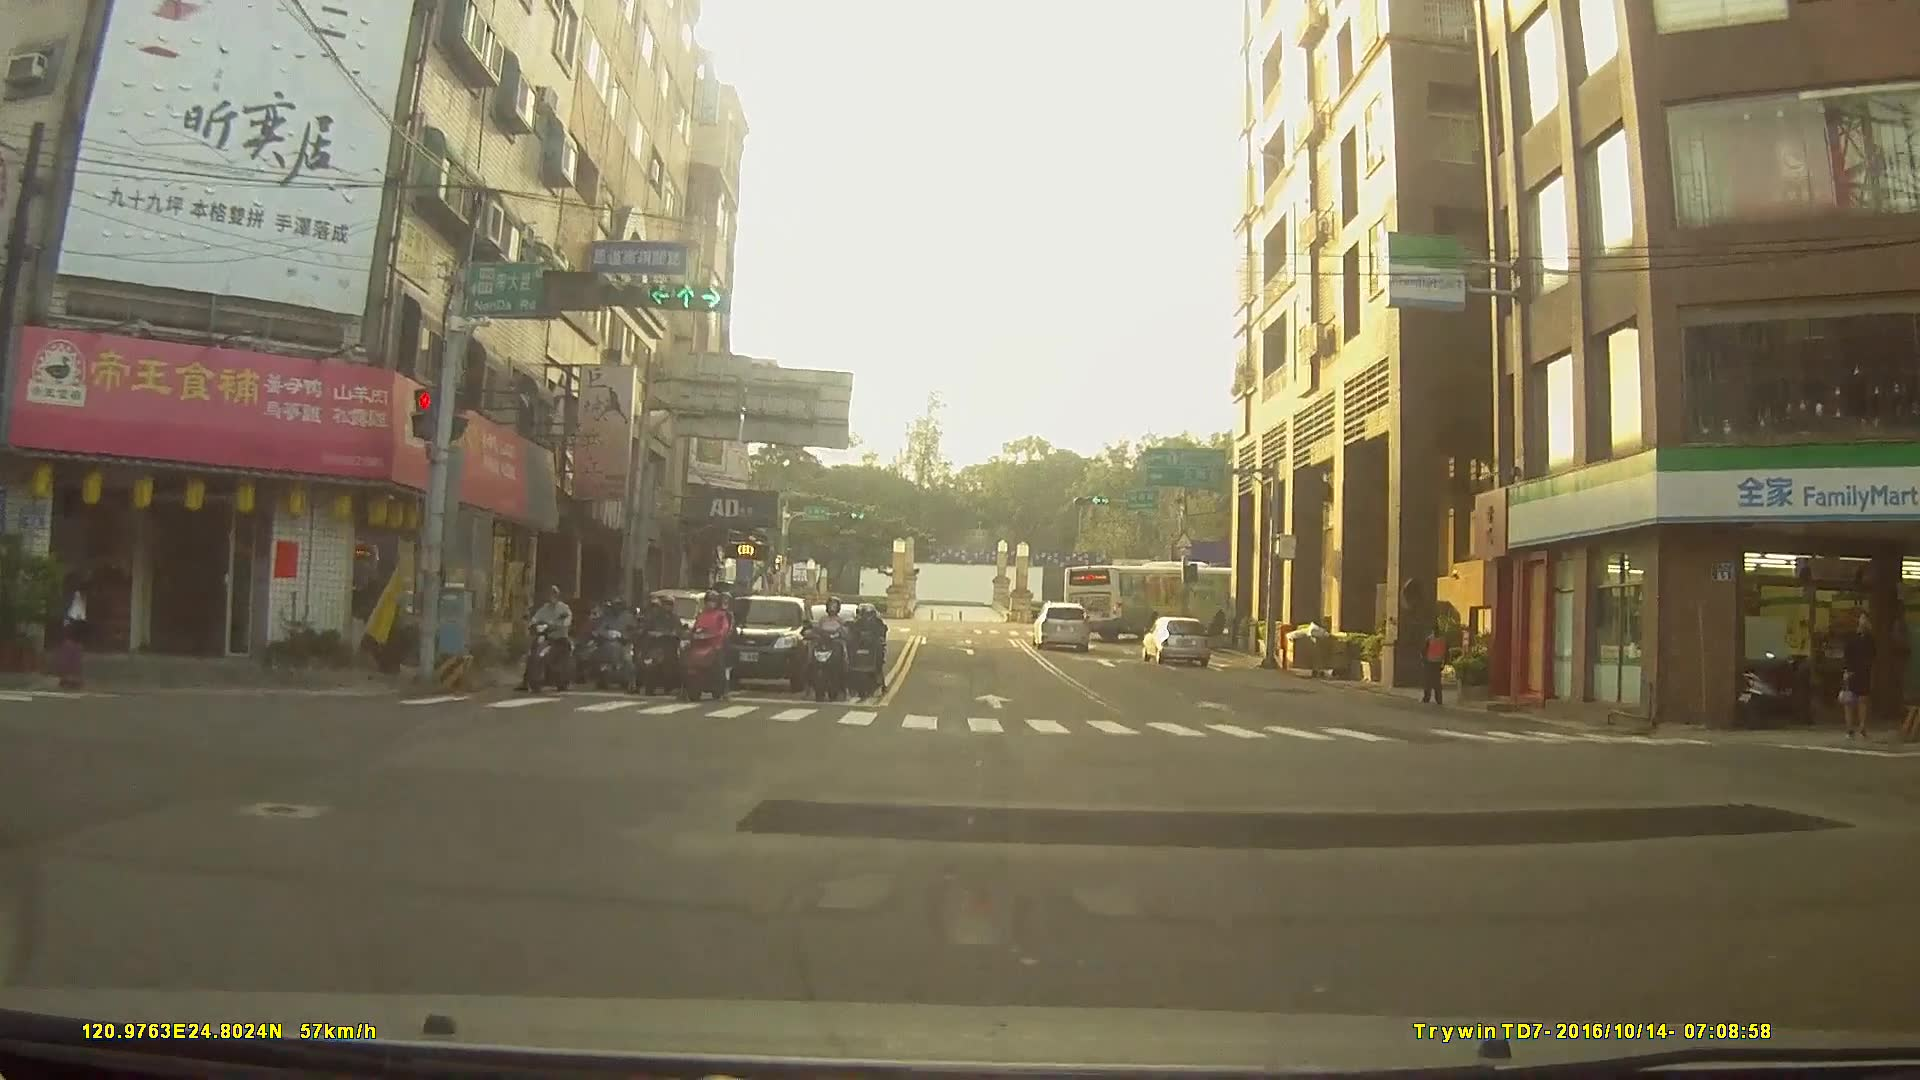pedestrian: (48, 555, 97, 698), (1839, 609, 1884, 740), (1419, 626, 1451, 704)
rider: (677, 591, 739, 709), (522, 588, 579, 696), (807, 595, 853, 699), (584, 602, 630, 697), (636, 599, 680, 696), (846, 612, 889, 702)
vehicle: (1062, 564, 1242, 640), (699, 592, 813, 690), (1140, 614, 1212, 665), (1031, 600, 1090, 651)
